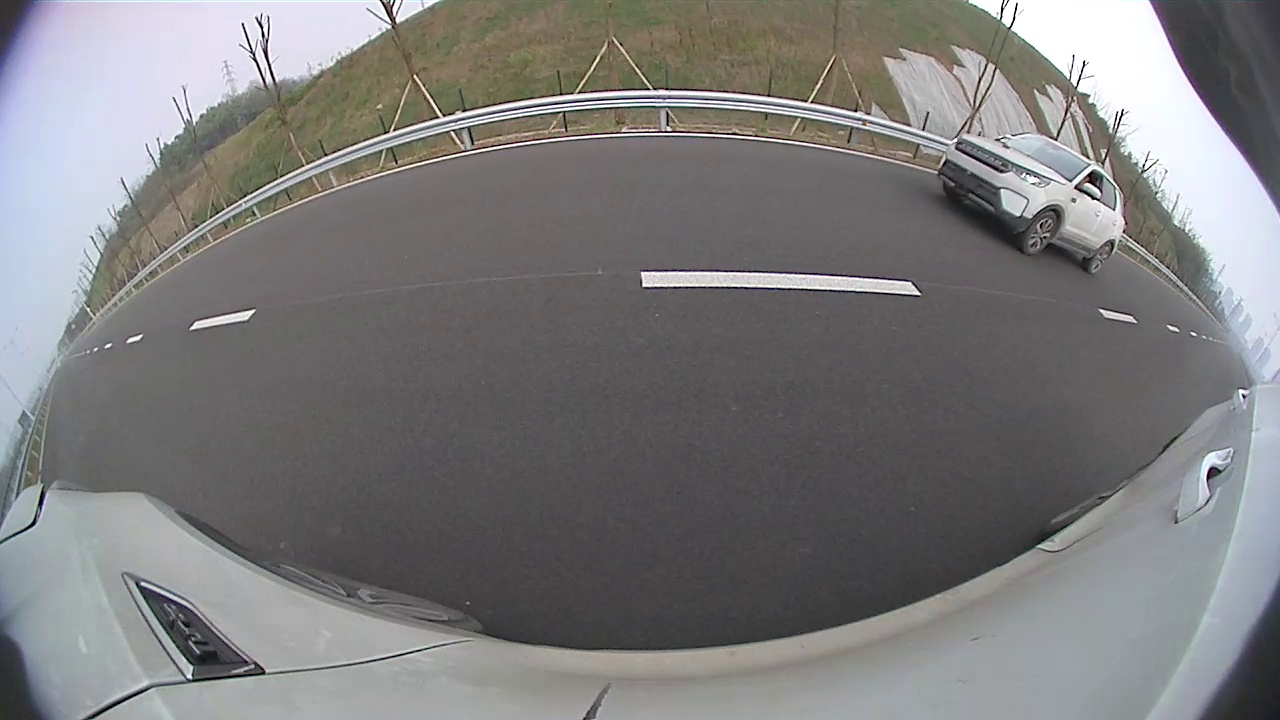car: (938, 132, 1125, 274)
front: (1023, 210, 1061, 257)
rear: (1088, 241, 1115, 275)
